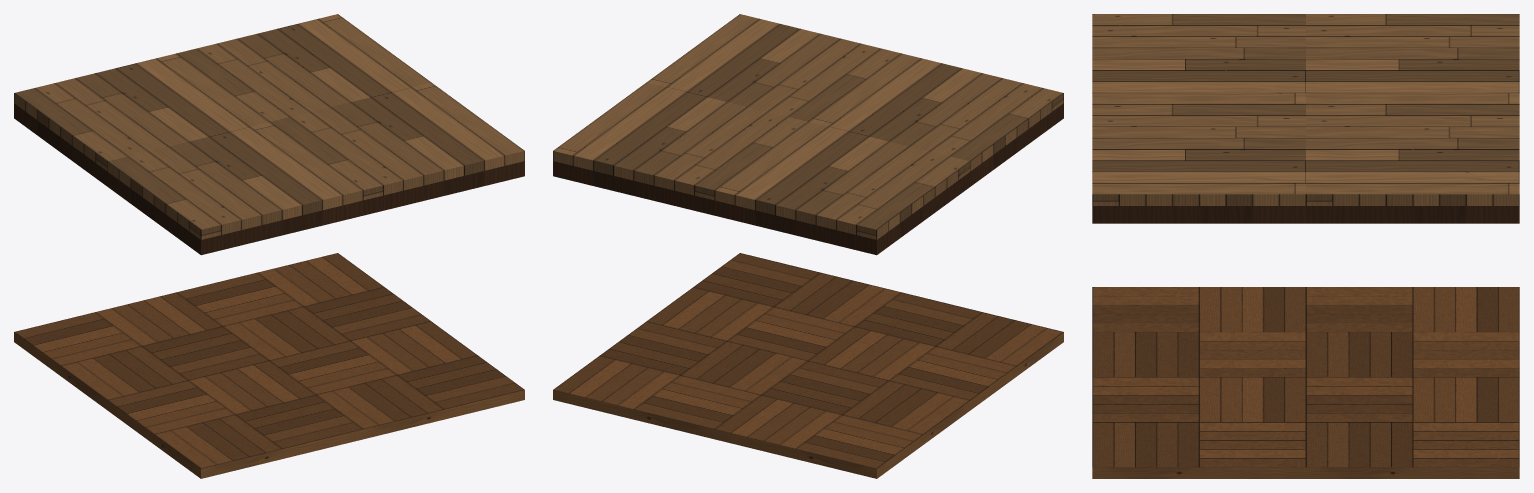
Rendered from Room_Cabin_Floor_NoLight.glb.
3 renders of one model, left to right at view 1: azimuth 30°, elevation 25°; view 2: azimuth 150°, elevation 25°; view 3: azimuth 270°, elevation 25°, orthographic. The views are drawn at different scales.
Parts seen in each view (by area): view 1: Room_Cabin_Floor_NoLight_Ceiling, Room_Cabin_Floor_NoLight; view 2: Room_Cabin_Floor_NoLight_Ceiling, Room_Cabin_Floor_NoLight; view 3: Room_Cabin_Floor_NoLight_Ceiling, Room_Cabin_Floor_NoLight.
Boxes of the visible parts, x1=… form: Room_Cabin_Floor_NoLight_Ceiling: x1=14, y1=14, x2=524, y2=255; Room_Cabin_Floor_NoLight: x1=14, y1=253, x2=524, y2=478; Room_Cabin_Floor_NoLight_Ceiling: x1=553, y1=14, x2=1063, y2=255; Room_Cabin_Floor_NoLight: x1=553, y1=253, x2=1063, y2=478; Room_Cabin_Floor_NoLight_Ceiling: x1=1092, y1=14, x2=1519, y2=223; Room_Cabin_Floor_NoLight: x1=1092, y1=287, x2=1519, y2=478.
Bounding box in the file's own units: 4 × 2.94 × 4.
4 materials, 4 textured.
